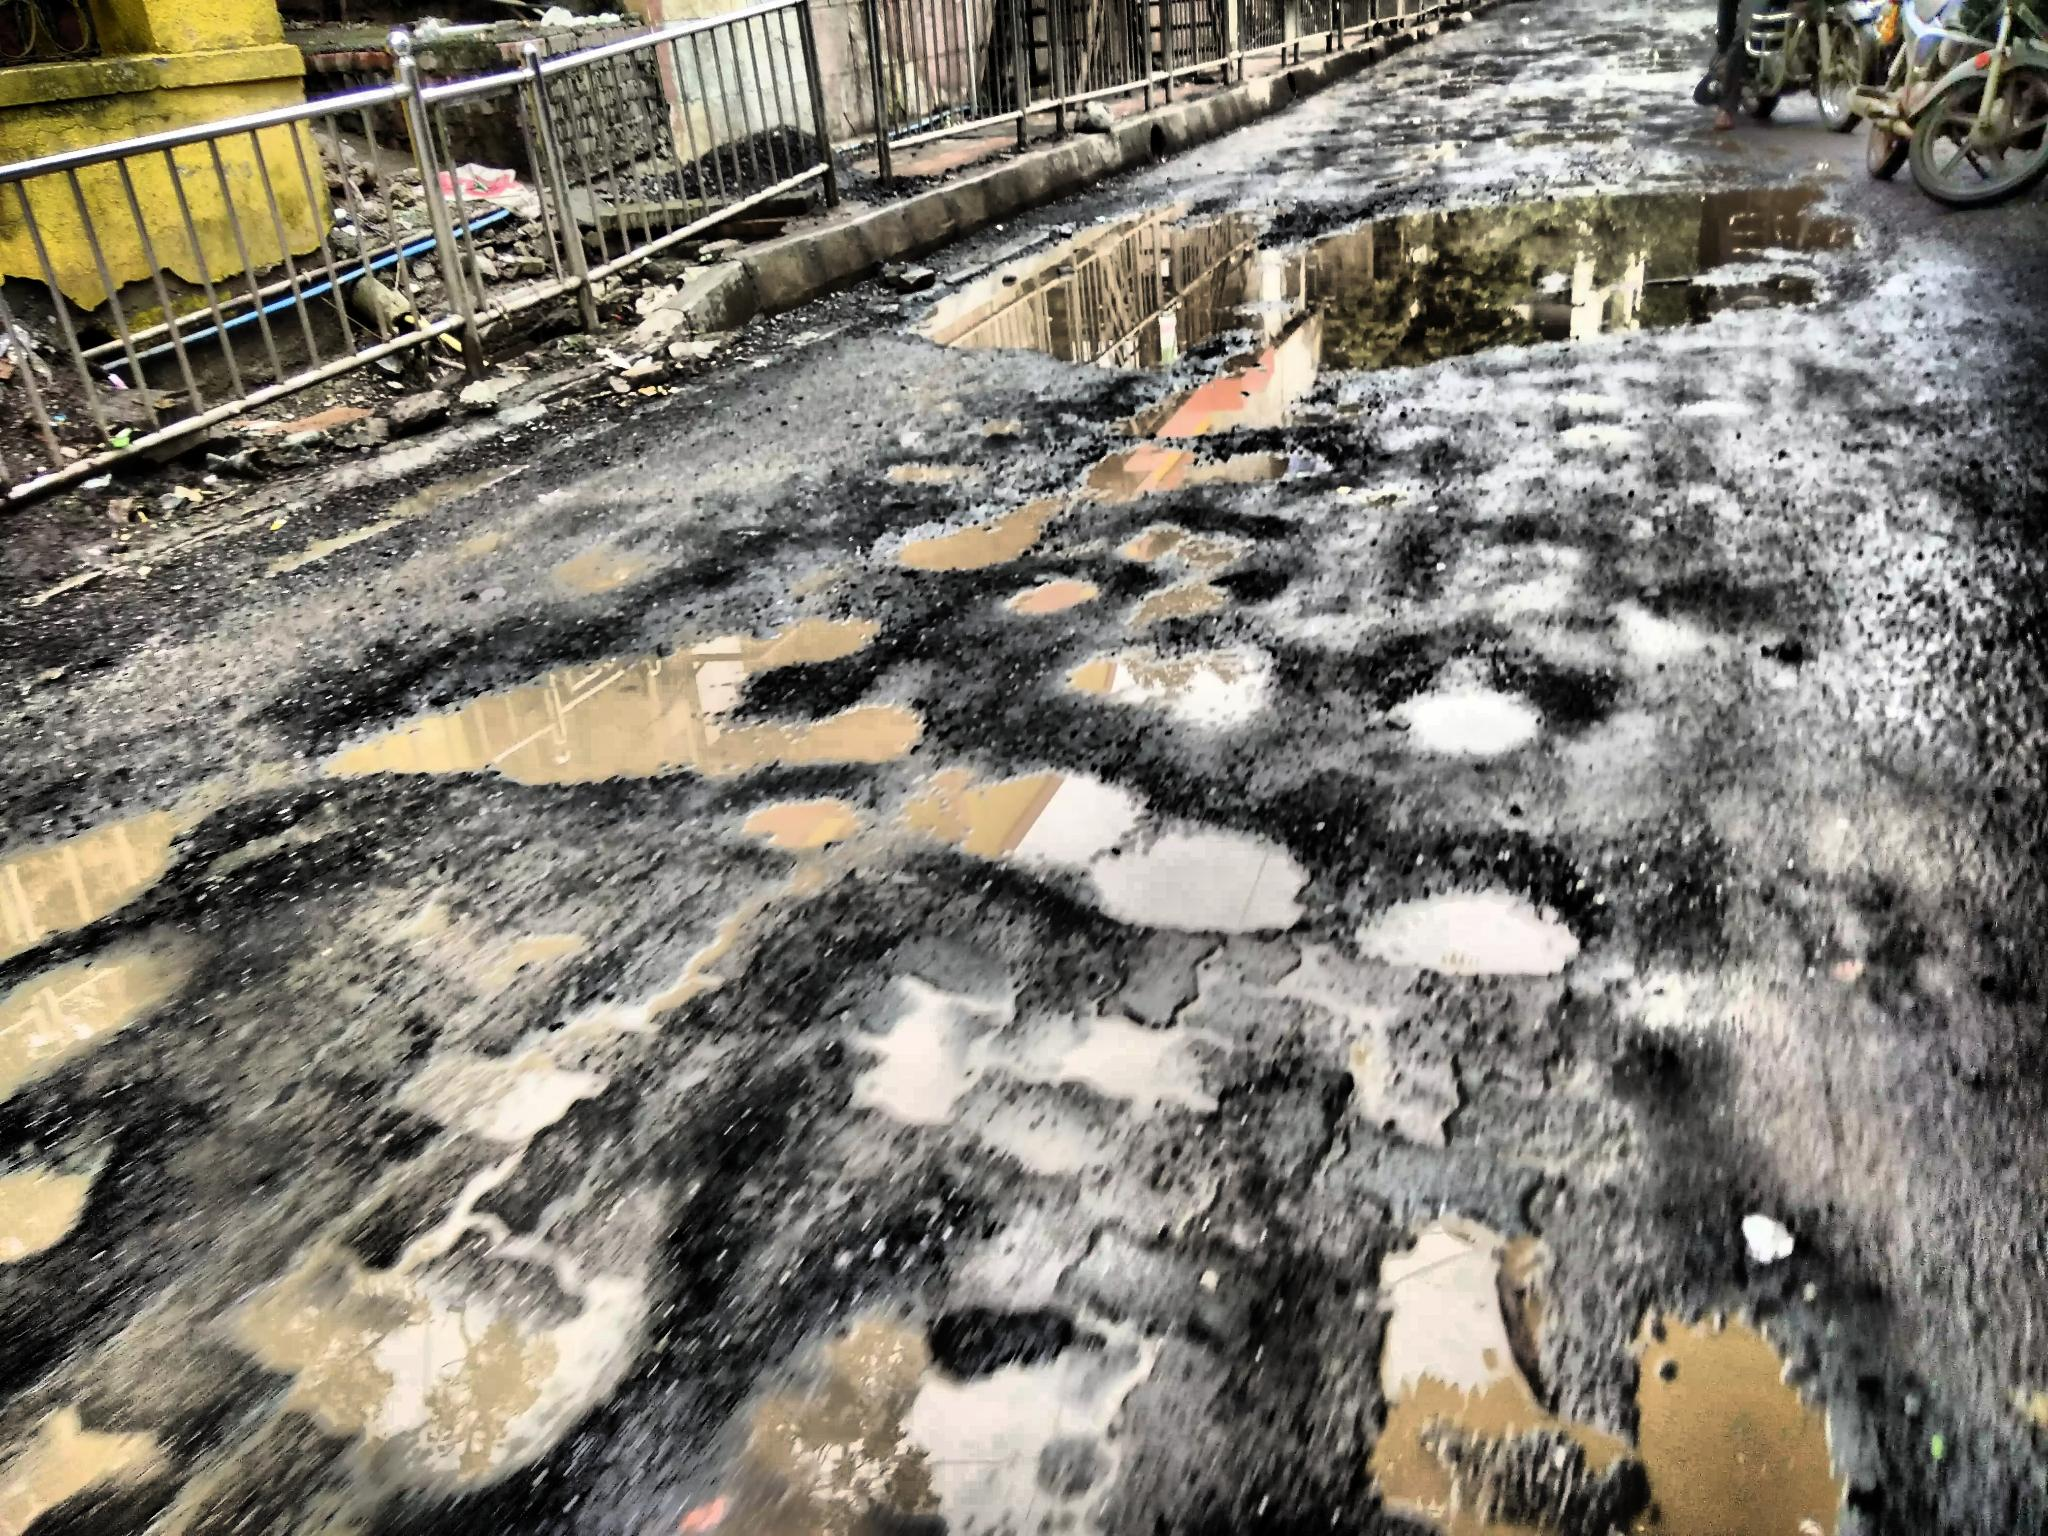pothole: (227, 1188, 635, 1536), (652, 1278, 1192, 1536), (1352, 162, 1860, 436), (330, 590, 938, 800), (834, 960, 1250, 1204), (894, 198, 1346, 398), (391, 923, 775, 1149), (914, 744, 1322, 952), (1338, 1218, 1602, 1536), (1602, 1238, 1858, 1536), (0, 739, 280, 985), (1352, 852, 1604, 1012), (1058, 620, 1280, 746), (0, 1394, 178, 1536), (1364, 664, 1568, 778), (1332, 1032, 1480, 1168), (869, 478, 1061, 576), (0, 1140, 108, 1290), (728, 798, 876, 866)
